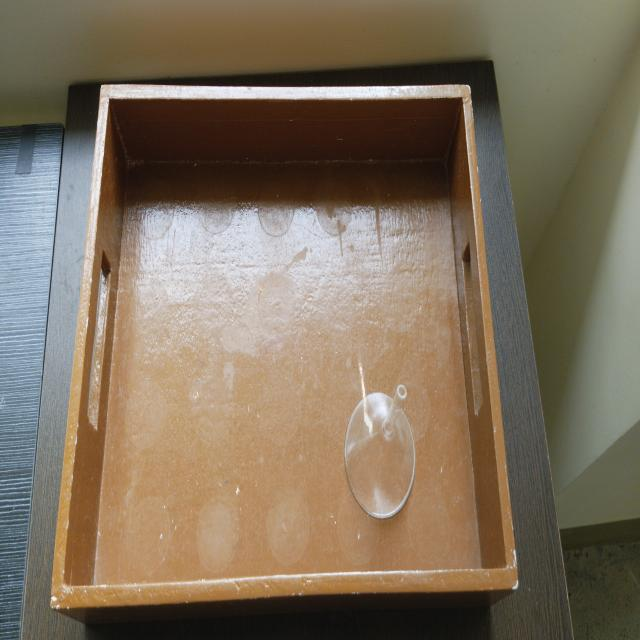funnel: (336, 370, 418, 533)
